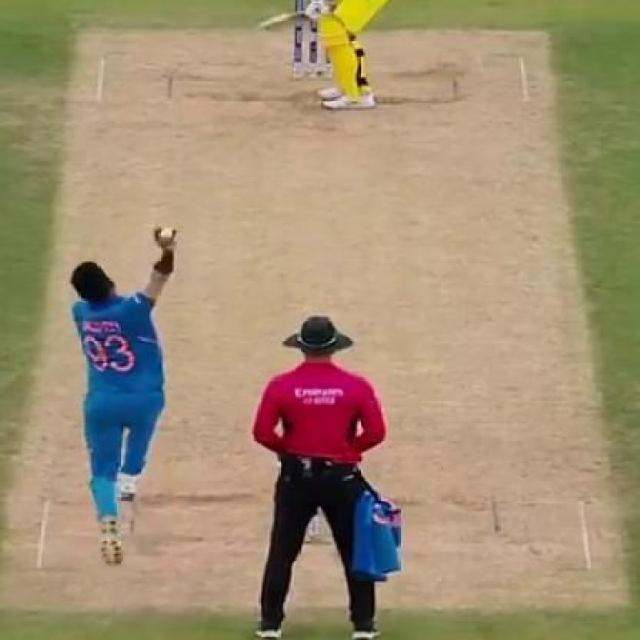Cricket ball: (156, 221, 177, 245)
